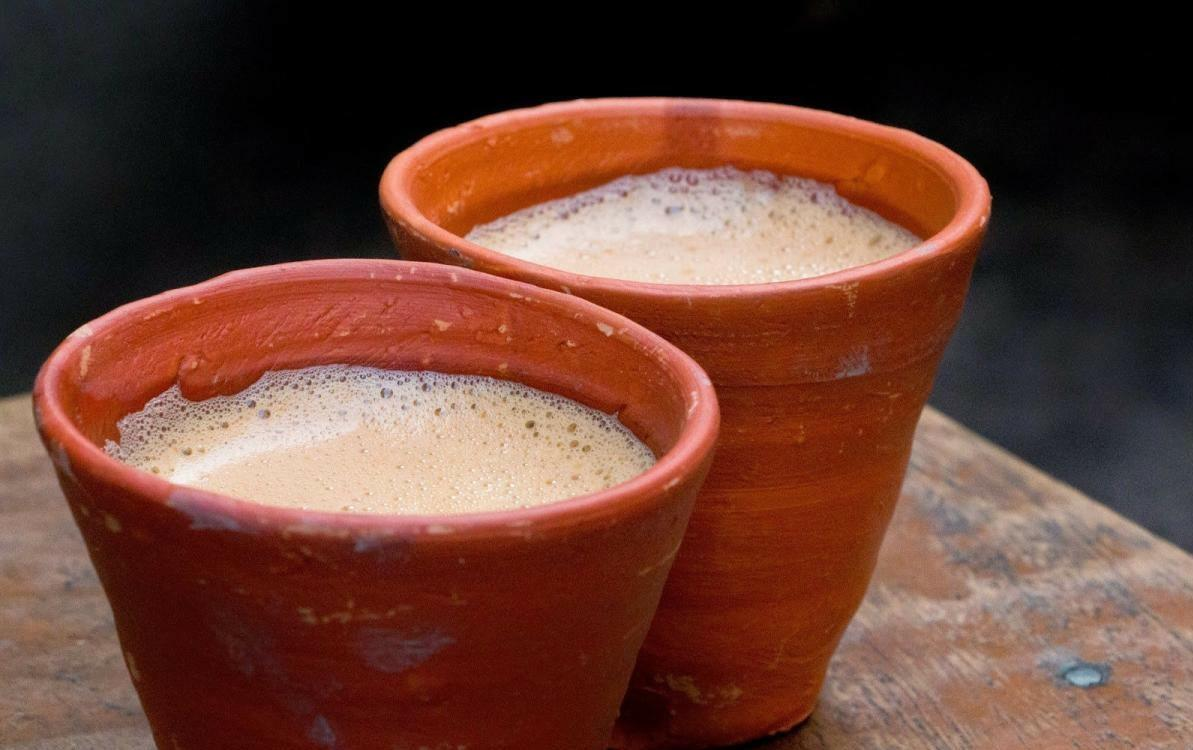Chai: (101, 364, 660, 513), (461, 167, 924, 288)
